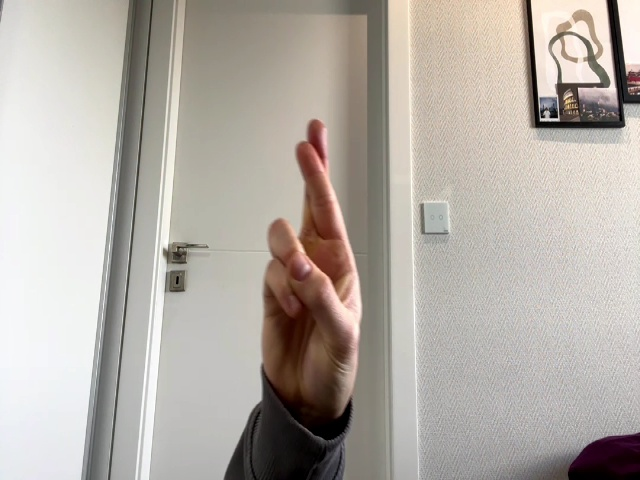R: (262, 120, 364, 406)
